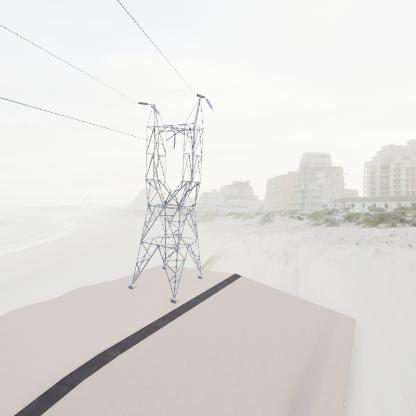tower: (128, 95, 212, 305)
